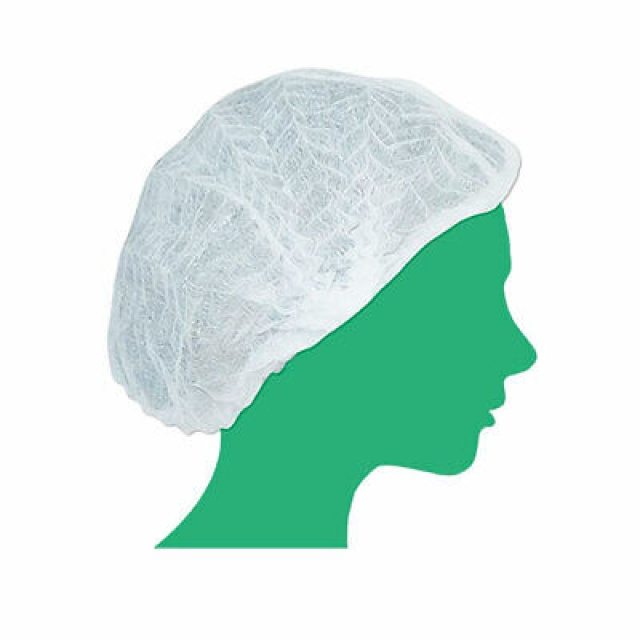Hairnet: (148, 100, 408, 353)
